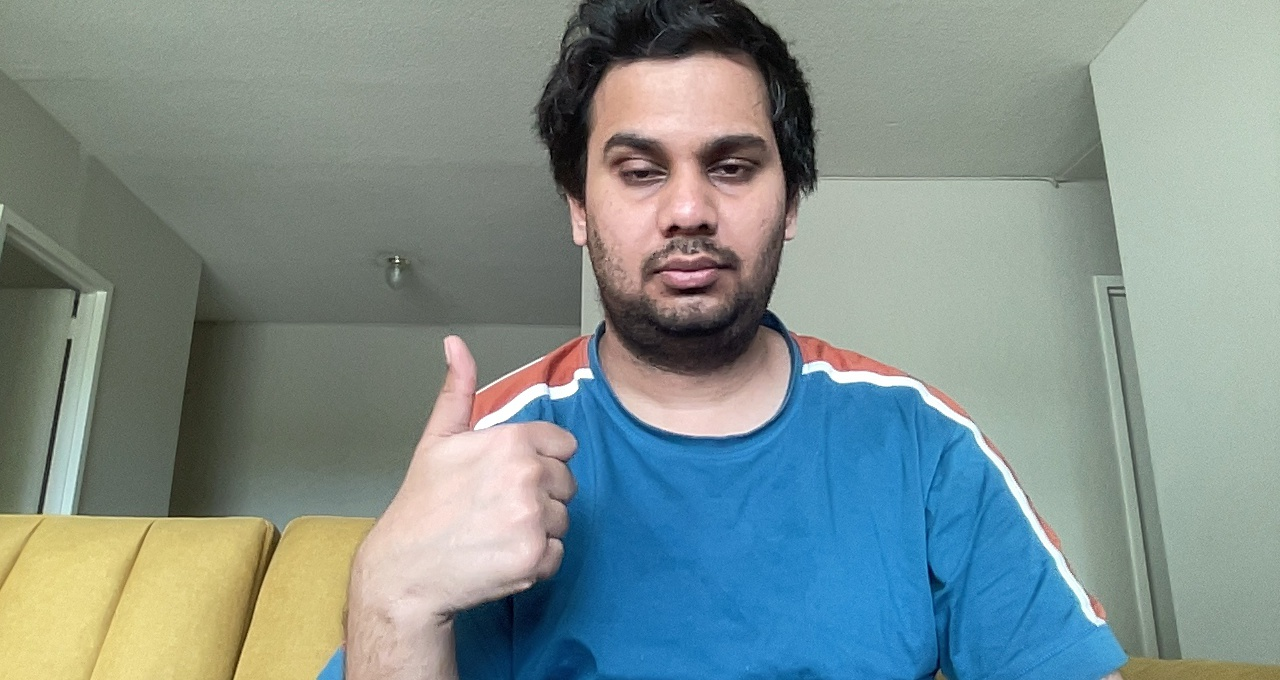thumbsup: (393, 325, 597, 609)
